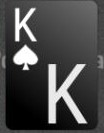Spade: (12, 45, 40, 70)
